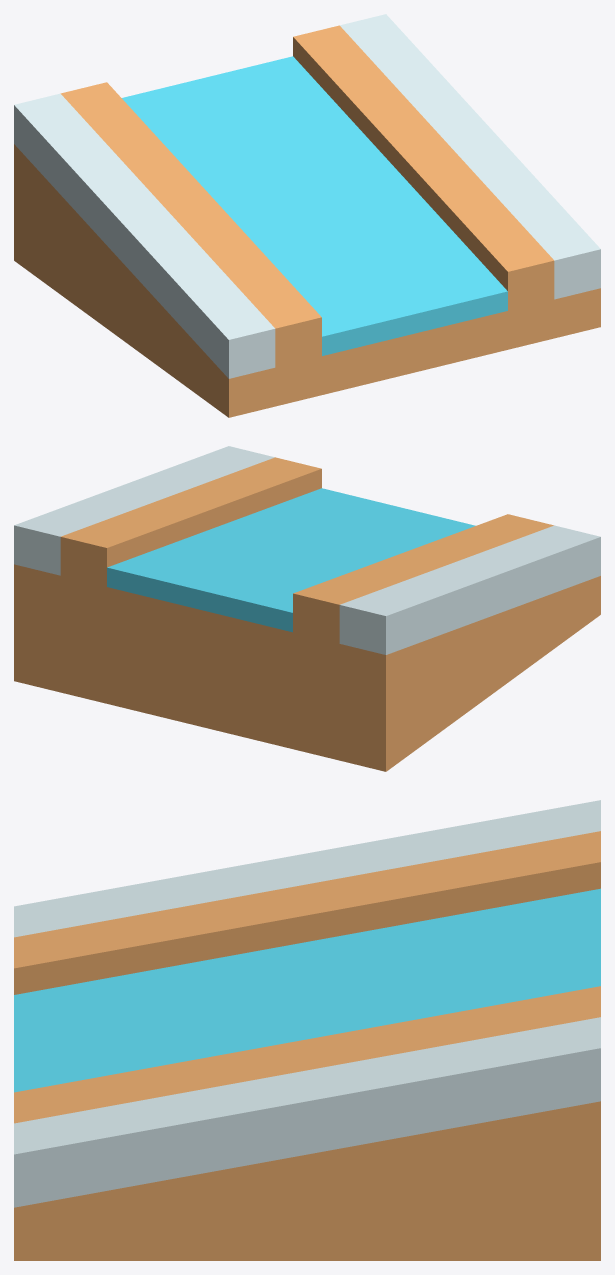
The model's file is snow_tile_riverSlope.dae.
The picture shows the model from 3 angles, top to bottom: view 1: azimuth 30°, elevation 25°; view 2: azimuth 150°, elevation 25°; view 3: azimuth 270°, elevation 25°; orthographic projection. The views are drawn at different scales.
Parts seen in each view (by area): view 1: snow_tile_riverSlope; view 2: snow_tile_riverSlope; view 3: snow_tile_riverSlope.
Part boxes in pixels (left/top/right/bottom): snow_tile_riverSlope: left=14, top=14, right=600, bottom=417; snow_tile_riverSlope: left=14, top=446, right=600, bottom=771; snow_tile_riverSlope: left=14, top=800, right=600, bottom=1260.
Size of the model in its own units: 1 by 0.4 by 1.
